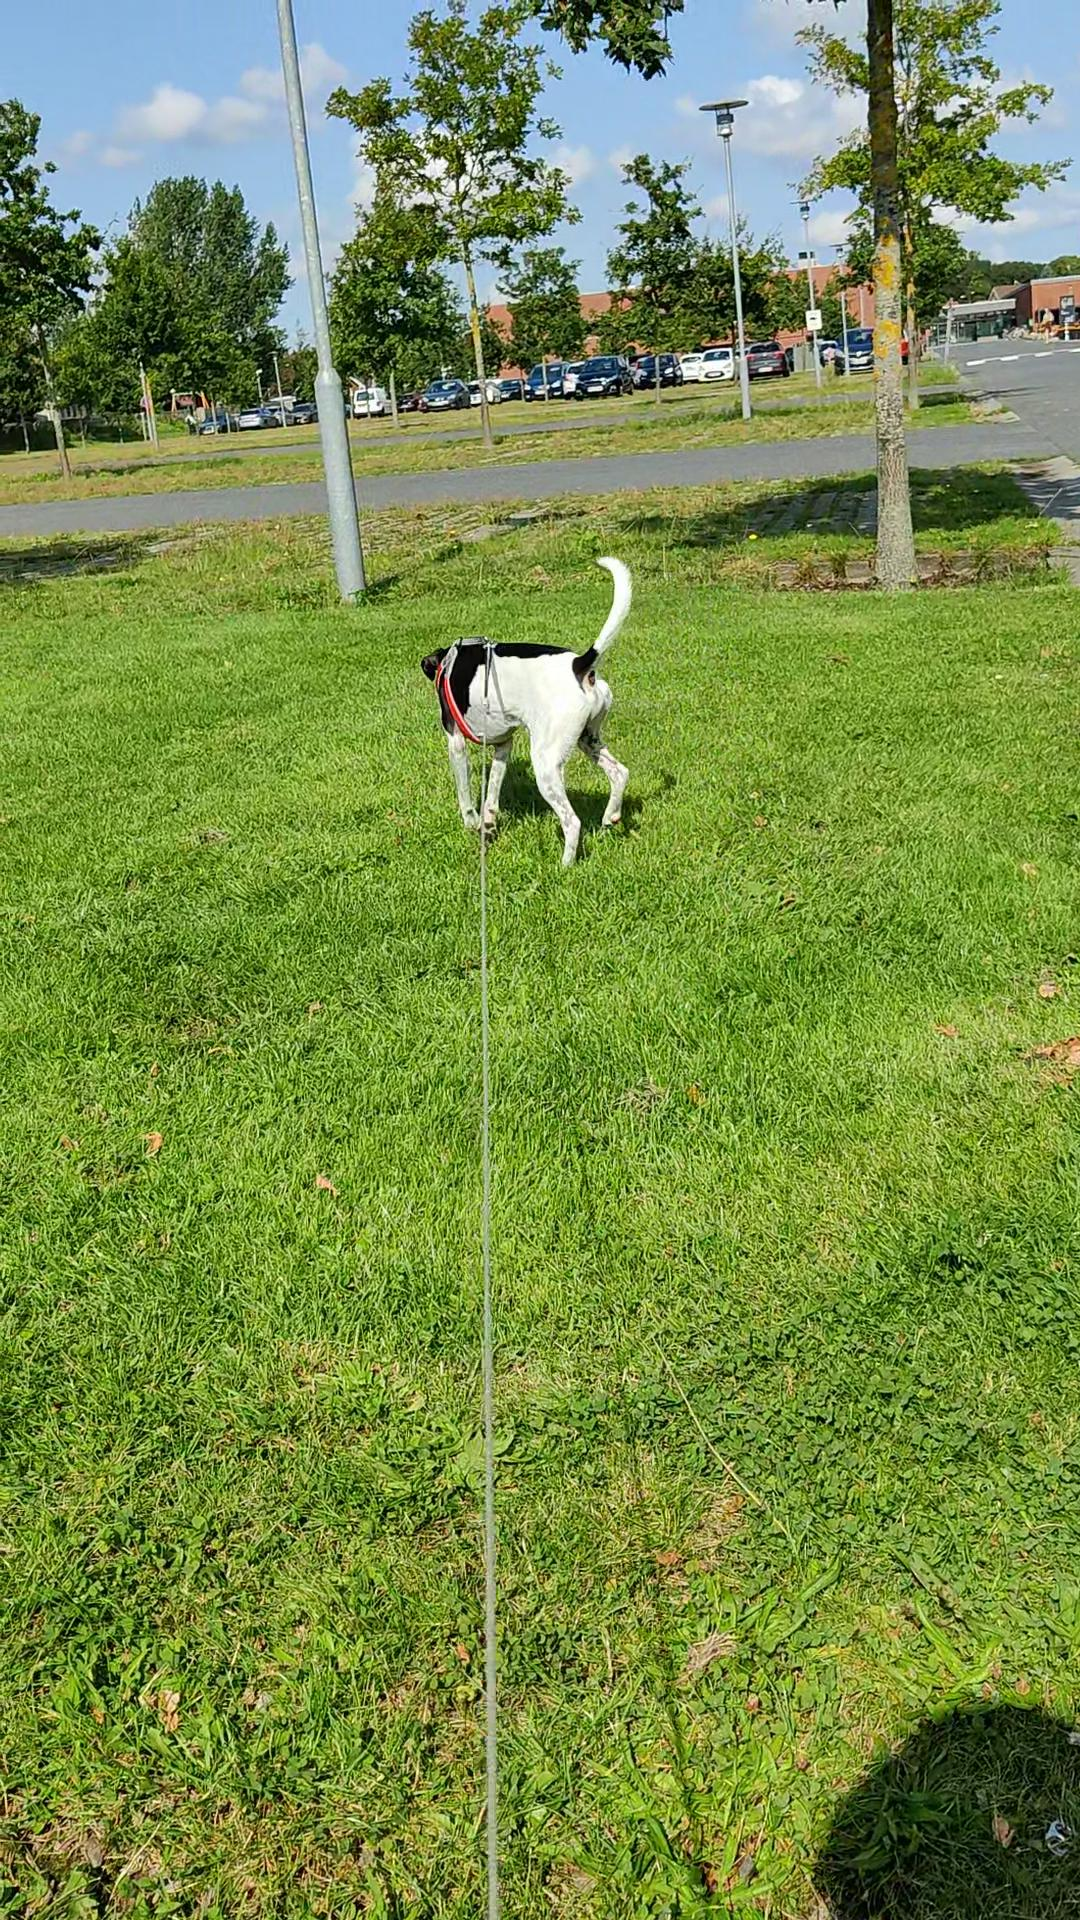Dog: (410, 553, 641, 872)
